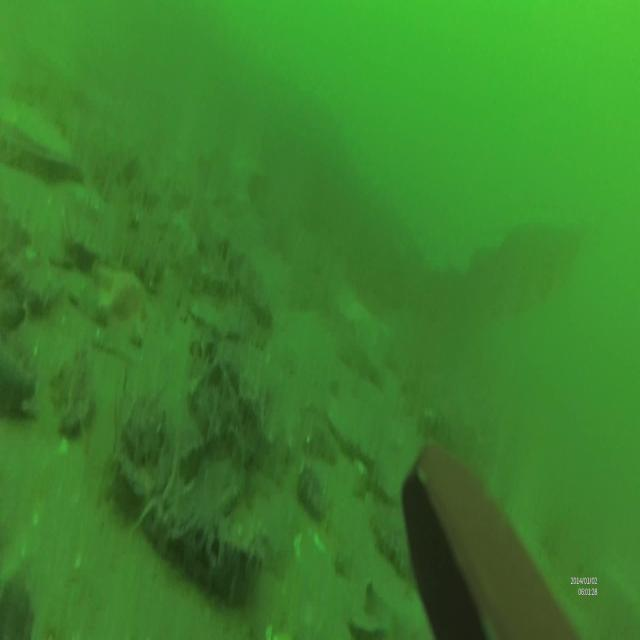scallop: (0, 93, 75, 179)
starfish: (92, 253, 152, 339)
